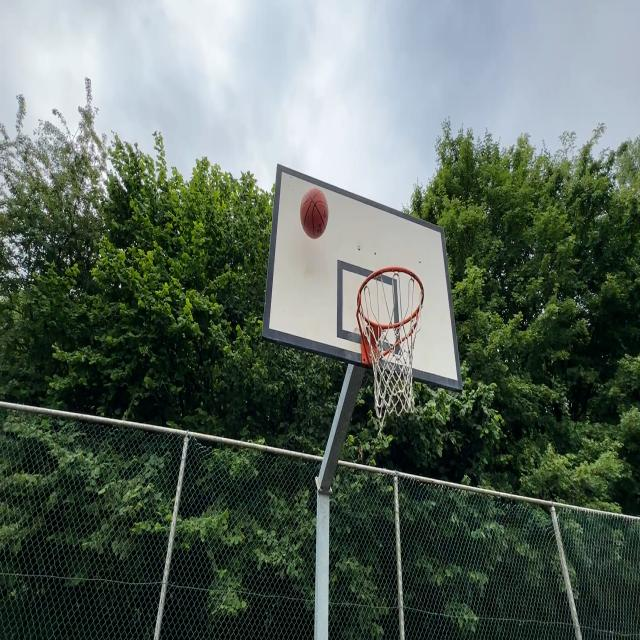Basketball: (302, 189, 330, 240)
